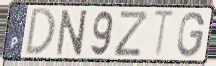9: (89, 9, 114, 57)
D: (23, 7, 57, 58)
G: (176, 10, 206, 59)
N: (55, 8, 90, 57)
T: (152, 9, 177, 60)
Z: (113, 9, 151, 58)
